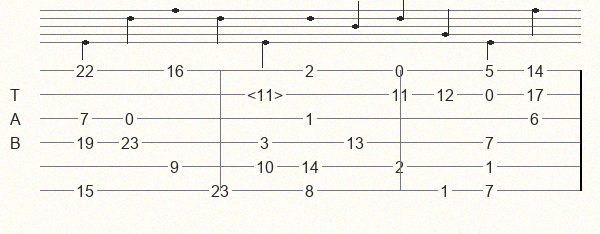0: (125, 110, 138, 126), (395, 62, 408, 78), (485, 86, 498, 102)
1: (305, 110, 318, 126), (440, 182, 453, 198), (485, 158, 498, 174)
10: (256, 158, 278, 174)
11: (391, 86, 413, 102)
12: (436, 86, 458, 102)
13: (346, 134, 368, 150)
14: (301, 158, 323, 174), (526, 62, 548, 78)
15: (76, 182, 98, 198)
16: (166, 62, 188, 78)
17: (526, 86, 548, 102)
19: (76, 134, 98, 150)
2: (305, 62, 318, 78), (395, 158, 408, 174)
22: (76, 62, 98, 78)
23: (121, 134, 143, 150), (211, 182, 233, 198)
3: (260, 134, 273, 150)
5: (485, 62, 498, 78)
6: (530, 110, 543, 126)
7: (80, 110, 93, 126), (485, 134, 498, 150), (485, 182, 498, 198)
8: (305, 182, 318, 198)
9: (170, 158, 183, 174)
harmonic: (247, 86, 287, 102)
